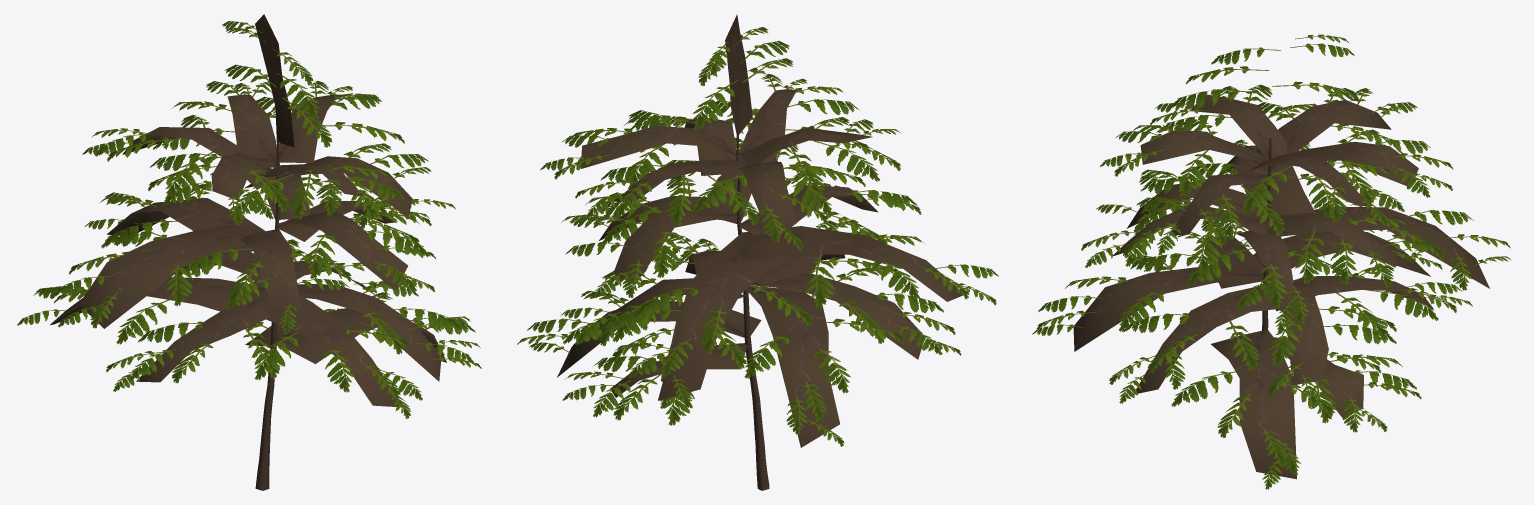
File: forest_Bush2.fbx
3 views of the same model, side by side, from view 1: azimuth 30°, elevation 25°; view 2: azimuth 150°, elevation 25°; view 3: azimuth 270°, elevation 25° (orthographic). The views are drawn at different scales.
Parts seen in each view (by area): view 1: StaticMeshActor_34_StaticMeshComponent0; view 2: StaticMeshActor_34_StaticMeshComponent0; view 3: StaticMeshActor_34_StaticMeshComponent0.
Part boxes in pixels (x1,y1,x2,y2): StaticMeshActor_34_StaticMeshComponent0: (17, 14, 481, 490); StaticMeshActor_34_StaticMeshComponent0: (517, 14, 998, 490); StaticMeshActor_34_StaticMeshComponent0: (1032, 34, 1511, 489).
Bounding box in the file's own units: 3.53 × 3.55 × 3.44.
